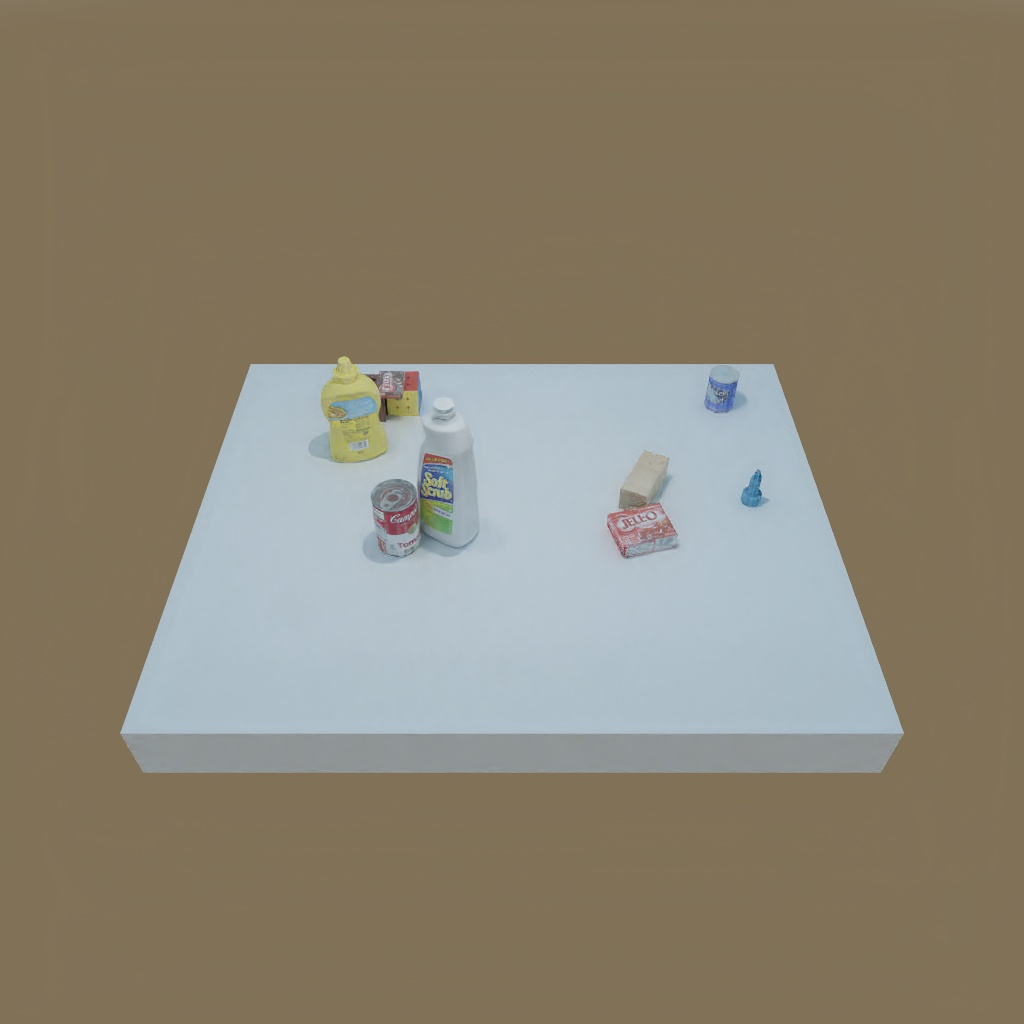gelatin_box: (606, 506, 681, 559)
master_chef_can: (701, 365, 744, 421)
mustard_bottle: (320, 359, 389, 462)
pudding_box: (378, 368, 404, 399)
rubiks_cube: (387, 373, 422, 418)
tomato_soup_can: (368, 476, 424, 557)
wood_block: (621, 450, 670, 509)
